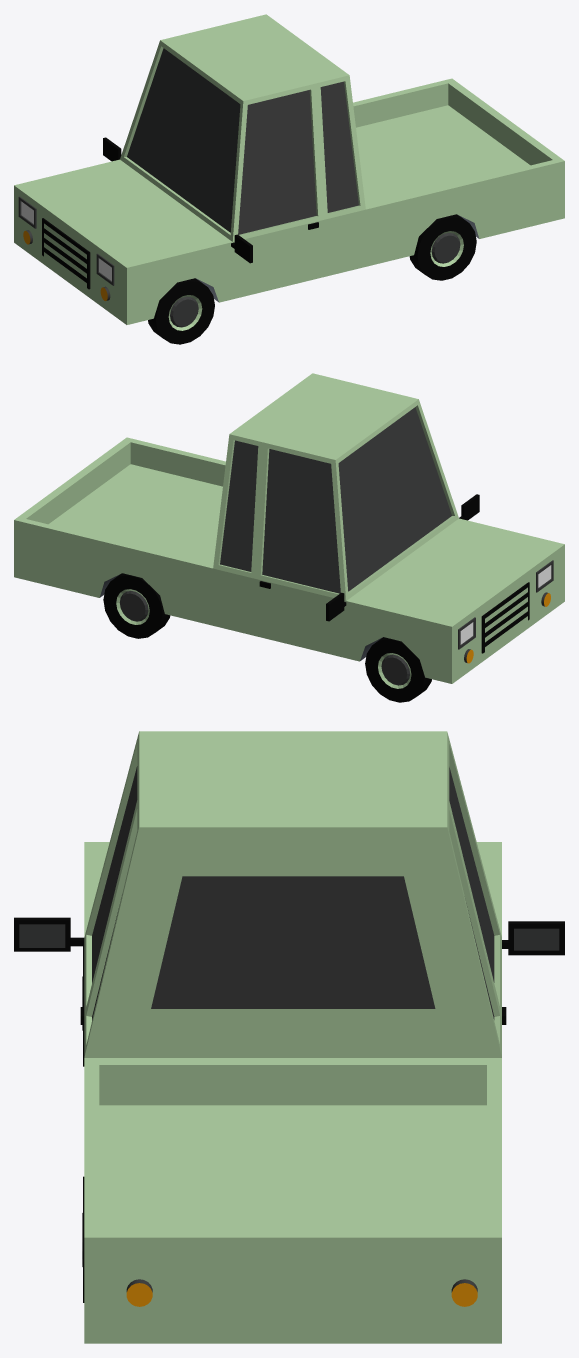
File: car5D.FBX
The picture shows the model from 3 angles, top to bottom: view 1: azimuth 30°, elevation 25°; view 2: azimuth 150°, elevation 25°; view 3: azimuth 270°, elevation 25°; orthographic projection. The views are drawn at different scales.
Parts seen in each view (by area): view 1: car5D; view 2: car5D; view 3: car5D.
Boxes of the visible parts, x1,y1,x2,y2 form: car5D: (14, 14, 564, 344); car5D: (14, 373, 564, 702); car5D: (14, 731, 564, 1343).
Bounding box in the file's own units: 11.38 × 5.22 × 6.6.
